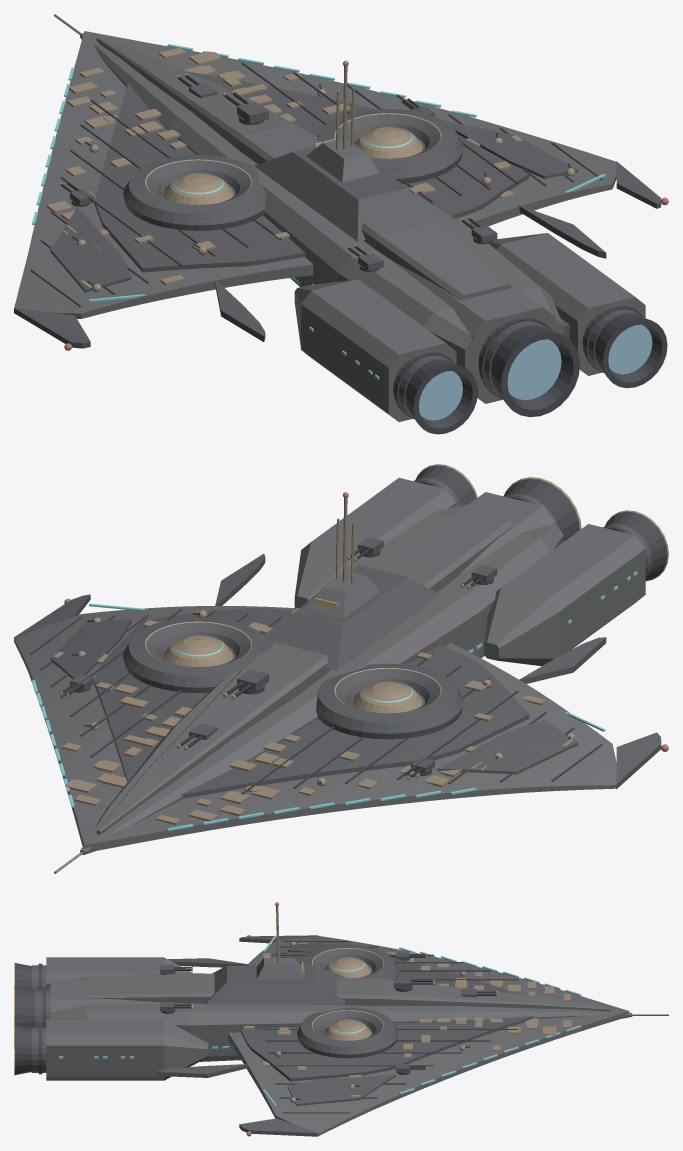
File: meer-undertow.glb
The picture shows the model from 3 angles, top to bottom: view 1: azimuth 30°, elevation 25°; view 2: azimuth 150°, elevation 25°; view 3: azimuth 270°, elevation 25°; orthographic projection. The views are drawn at different scales.
Visible parts, largest first — view 1: main_hull_000, armor_layer_000, drive_pod_000, upper_deck_000, emitter_ring_000, engine_bell_000, command_block_000, hull_plate_000, engine_glow_000, blade_tip_000, emitter_dome_000, panel_seam_000 (+6 smaller); view 2: main_hull_000, armor_layer_000, drive_pod_000, upper_deck_000, emitter_ring_000, command_block_000, hull_plate_000, blade_tip_000, engine_bell_000, emitter_dome_000, panel_seam_000, turret_housing_000 (+6 smaller); view 3: main_hull_000, drive_pod_000, armor_layer_000, upper_deck_000, emitter_ring_000, command_block_000, blade_tip_000, hull_plate_000, panel_seam_000, engine_bell_000, emitter_dome_000, engine_housing_000 (+5 smaller).
Boxes of the visible parts, bbox=[...] form: main_hull_000: bbox=[14, 31, 616, 374]; armor_layer_000: bbox=[50, 71, 577, 292]; drive_pod_000: bbox=[294, 233, 645, 421]; upper_deck_000: bbox=[96, 37, 513, 300]; emitter_ring_000: bbox=[123, 109, 463, 230]; engine_bell_000: bbox=[405, 314, 667, 434]; command_block_000: bbox=[254, 146, 437, 241]; hull_plate_000: bbox=[46, 47, 522, 288]; engine_glow_000: bbox=[418, 324, 652, 420]; blade_tip_000: bbox=[14, 161, 661, 348]; emitter_dome_000: bbox=[163, 127, 422, 204]; panel_seam_000: bbox=[30, 62, 602, 307]; main_hull_000: bbox=[14, 504, 616, 854]; armor_layer_000: bbox=[50, 608, 577, 798]; drive_pod_000: bbox=[294, 477, 645, 666]; upper_deck_000: bbox=[96, 509, 513, 834]; emitter_ring_000: bbox=[123, 617, 463, 739]; command_block_000: bbox=[254, 565, 440, 670]; hull_plate_000: bbox=[52, 608, 574, 824]; blade_tip_000: bbox=[14, 554, 661, 789]; engine_bell_000: bbox=[415, 465, 667, 580]; emitter_dome_000: bbox=[163, 635, 422, 713]; panel_seam_000: bbox=[30, 608, 602, 794]; turret_housing_000: bbox=[70, 537, 497, 773]; main_hull_000: bbox=[50, 936, 632, 1135]; drive_pod_000: bbox=[46, 957, 208, 1080]; armor_layer_000: bbox=[240, 942, 534, 1105]; upper_deck_000: bbox=[87, 973, 609, 1011]; emitter_ring_000: bbox=[297, 945, 398, 1058]; command_block_000: bbox=[205, 965, 344, 1004]; blade_tip_000: bbox=[156, 935, 318, 1136]; hull_plate_000: bbox=[244, 942, 571, 1097]; panel_seam_000: bbox=[262, 941, 518, 1113]; engine_bell_000: bbox=[15, 963, 35, 1074]; emitter_dome_000: bbox=[324, 957, 371, 1040]; engine_housing_000: bbox=[31, 965, 50, 1072].
Bounding box in the file's own units: 3.19 × 1.08 × 4.45.
